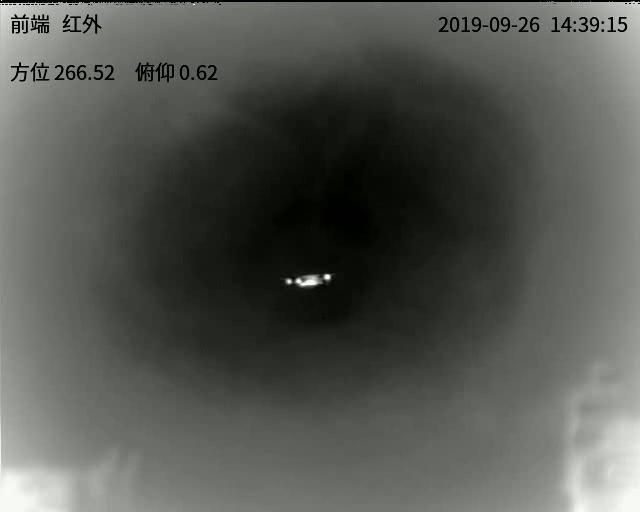DRONE: (281, 272, 333, 288)
